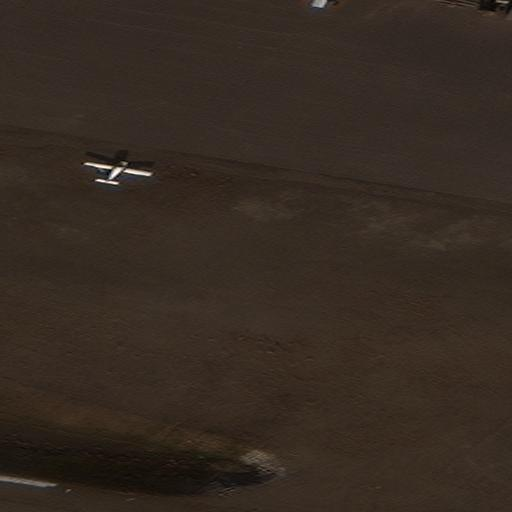Small Civil Transport: (85, 160, 152, 183)
